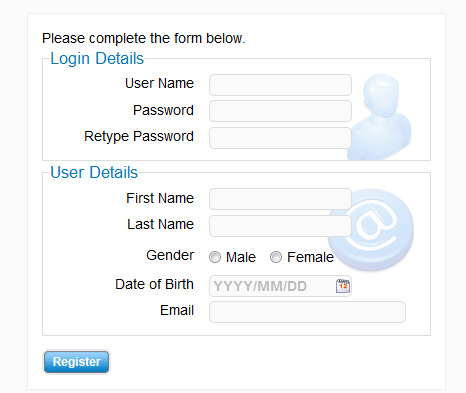_form_: (36, 23, 414, 376)
button: (43, 350, 111, 374)
field: (208, 301, 407, 324), (208, 273, 352, 298), (207, 187, 353, 211), (208, 73, 352, 97), (208, 126, 352, 150), (208, 214, 352, 238), (208, 100, 352, 122)
field_with_label: (84, 124, 353, 151), (159, 299, 409, 325), (116, 272, 354, 299), (125, 71, 353, 98), (126, 185, 354, 212), (126, 212, 353, 239), (133, 99, 353, 124)
radio: (268, 250, 284, 265), (207, 249, 221, 264)
radio_with_label: (148, 246, 221, 265), (265, 248, 334, 266), (204, 247, 255, 265)
